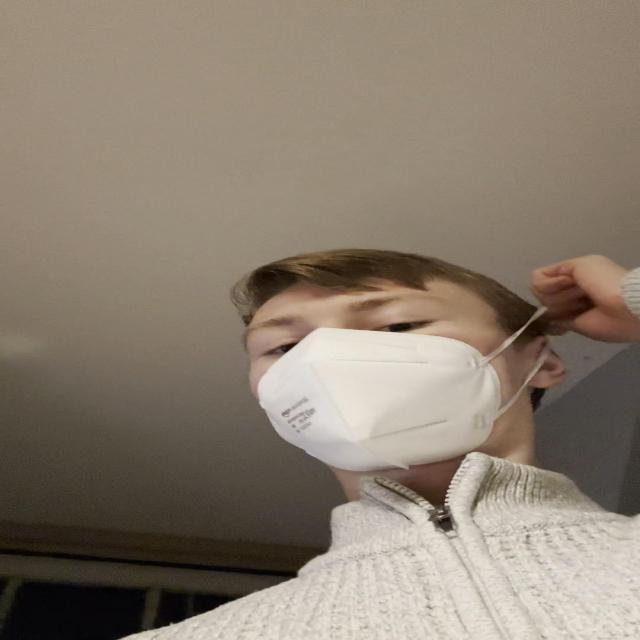no-helmet: (220, 236, 590, 492)
